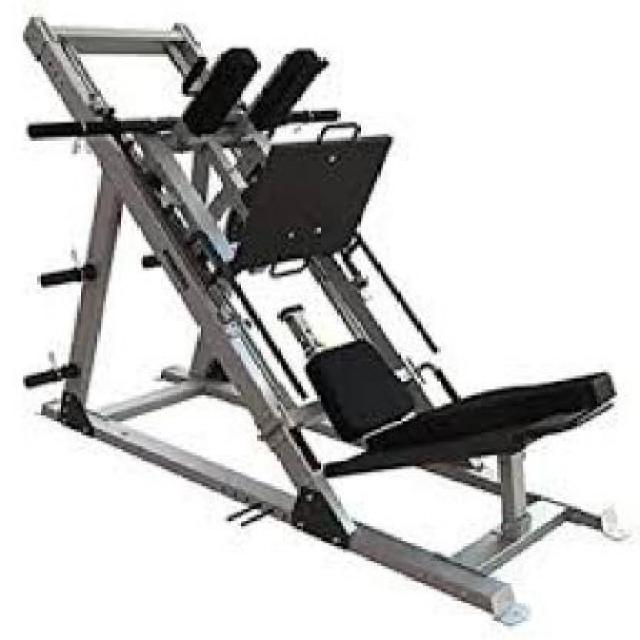leg press: (9, 7, 635, 640)
